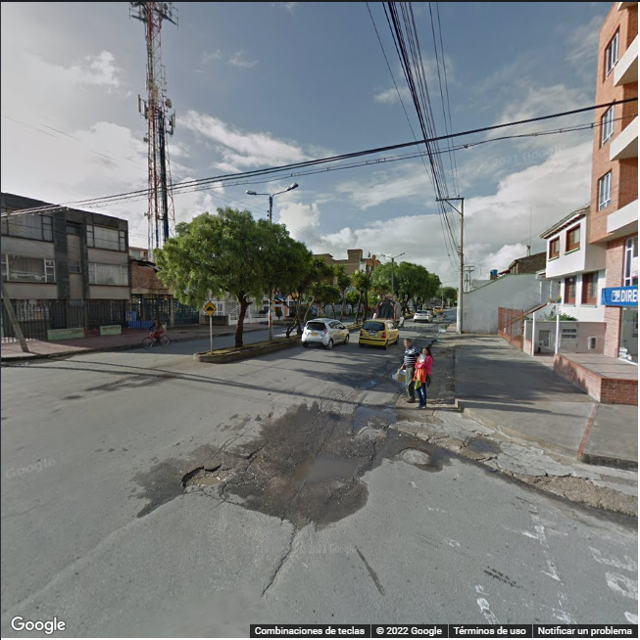D10: (261, 518, 302, 597), (247, 435, 270, 456)
D40: (300, 446, 374, 486), (173, 456, 230, 492)
